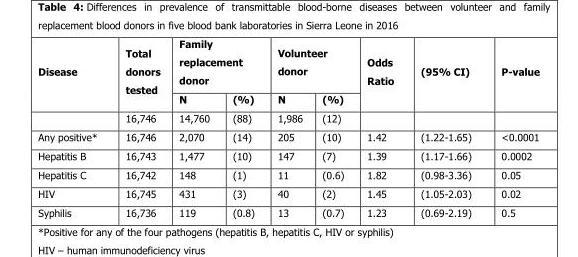table: (37, 36, 538, 218)
table column: (406, 36, 485, 218), (37, 36, 110, 218), (110, 36, 169, 218), (485, 36, 538, 218), (354, 36, 406, 218), (169, 36, 220, 218), (265, 36, 311, 218), (220, 36, 265, 218), (311, 36, 354, 218)
table column header: (37, 36, 538, 108)
table row: (37, 36, 538, 89), (37, 89, 538, 108), (37, 126, 538, 145), (37, 145, 538, 164), (37, 164, 538, 183), (37, 183, 538, 202), (37, 108, 538, 126), (37, 202, 538, 218)
table spanning cell: (406, 36, 485, 108), (37, 36, 110, 108), (169, 36, 265, 89), (265, 36, 354, 89), (110, 36, 169, 108), (485, 36, 538, 108), (354, 36, 406, 108)
